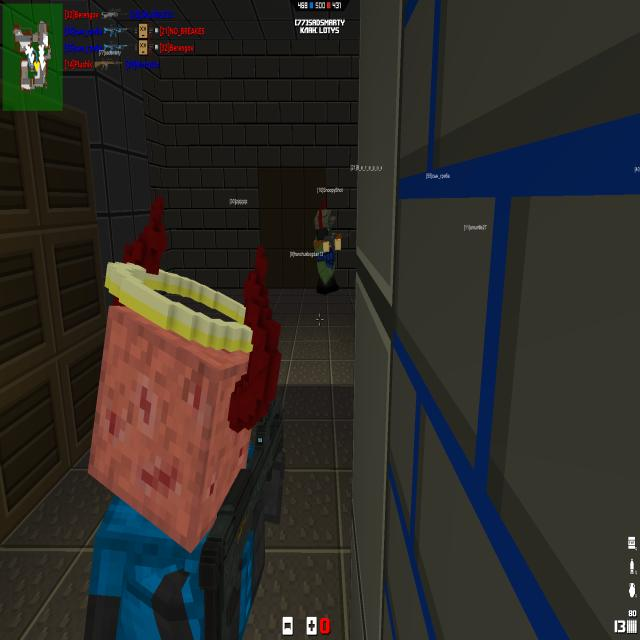player: (78, 196, 280, 633), (313, 198, 340, 296)
